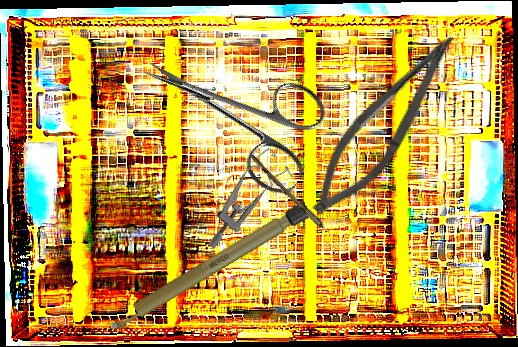Iris Scissors: (122, 20, 337, 201)
Micro Scissor: (298, 16, 468, 230)
Scalpel Handle: (103, 199, 313, 336)
Speculum: (184, 145, 301, 251)
Surgical Spoon: (248, 154, 349, 252)
